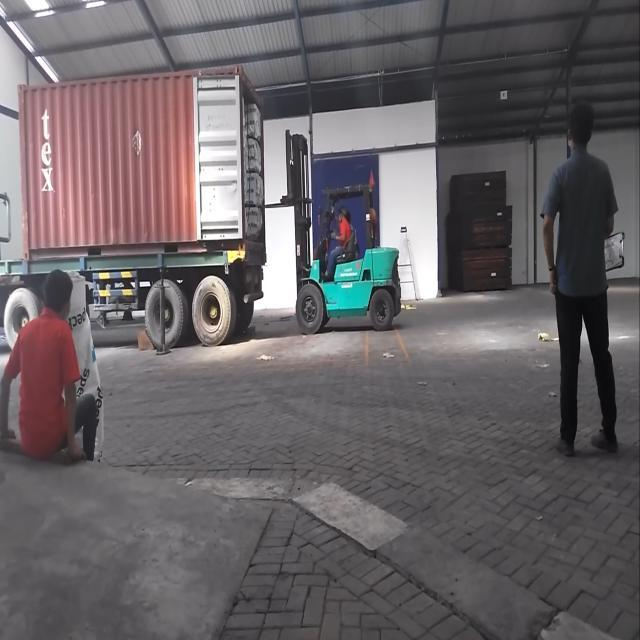driver: (319, 210, 356, 282)
forklift: (277, 126, 403, 332)
person: (540, 98, 626, 460), (0, 267, 100, 466)
